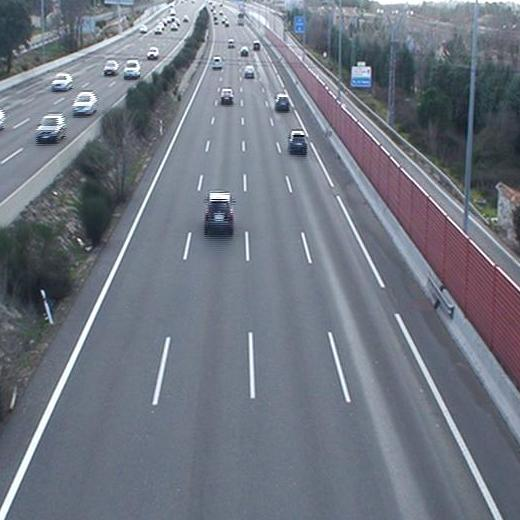car: (202, 191, 235, 235), (287, 129, 310, 157), (273, 94, 292, 111), (220, 87, 234, 104), (243, 64, 257, 79), (210, 56, 223, 71)
